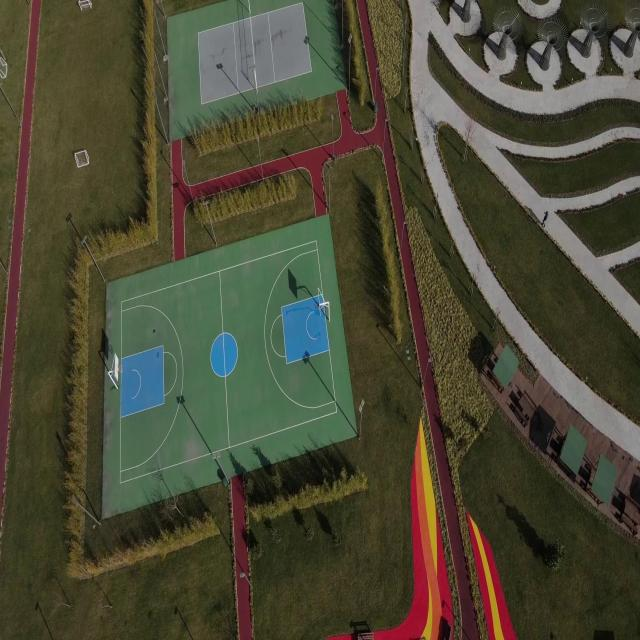p3rson: (541, 211, 548, 228)
